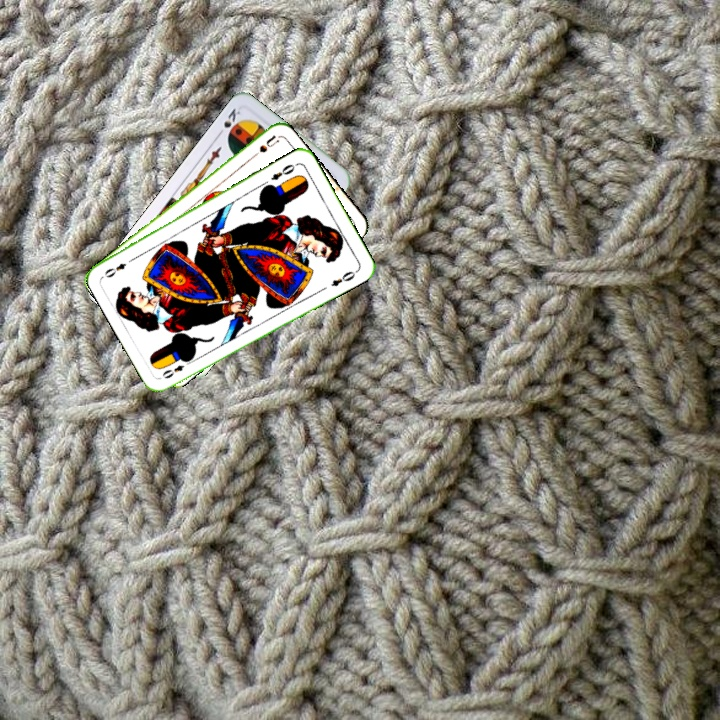EO: (158, 356, 195, 381), (267, 159, 300, 183)
SK: (213, 104, 243, 139)
SU: (245, 131, 280, 163)
